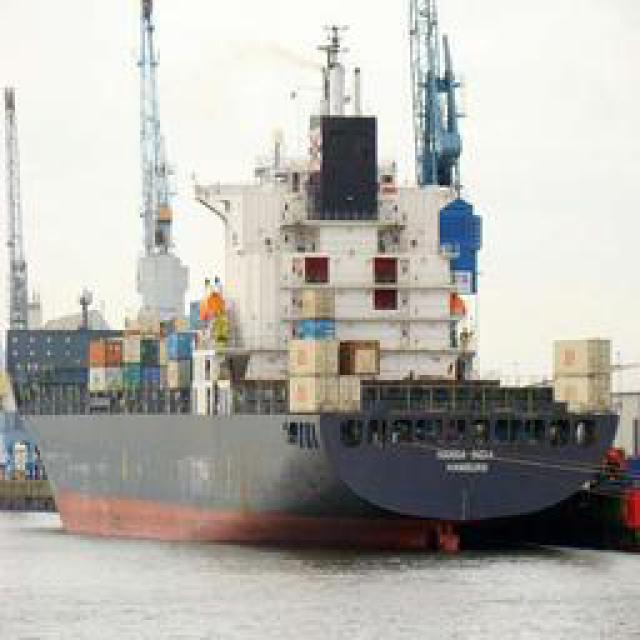Ship: (10, 143, 627, 563)
